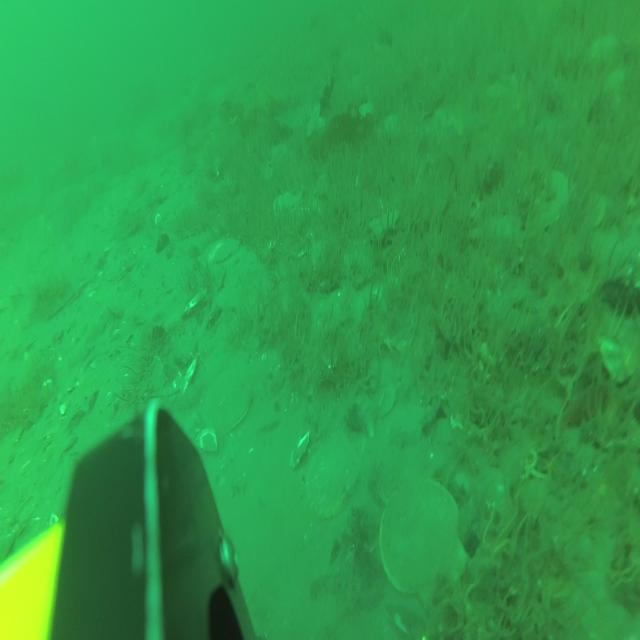scallop: (380, 483, 470, 610), (306, 431, 360, 523), (204, 364, 252, 434), (534, 171, 571, 229), (204, 236, 241, 264), (105, 252, 136, 283), (275, 189, 302, 221)
